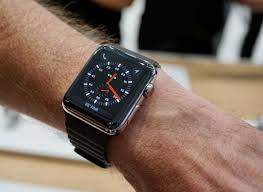clock: (83, 62, 133, 106)
